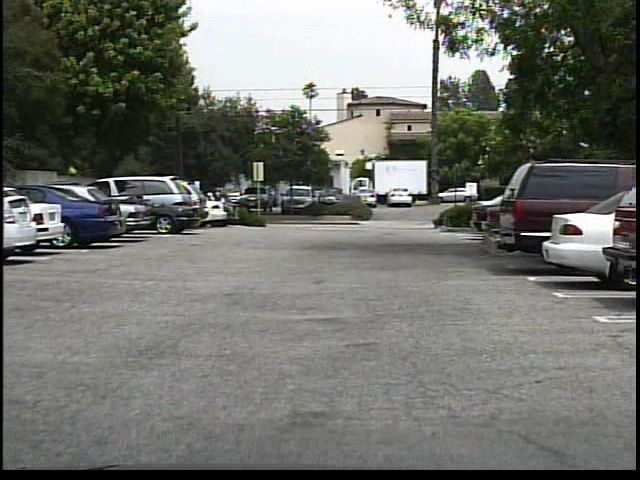person: (217, 192, 232, 221), (212, 190, 224, 220), (205, 186, 221, 205)
